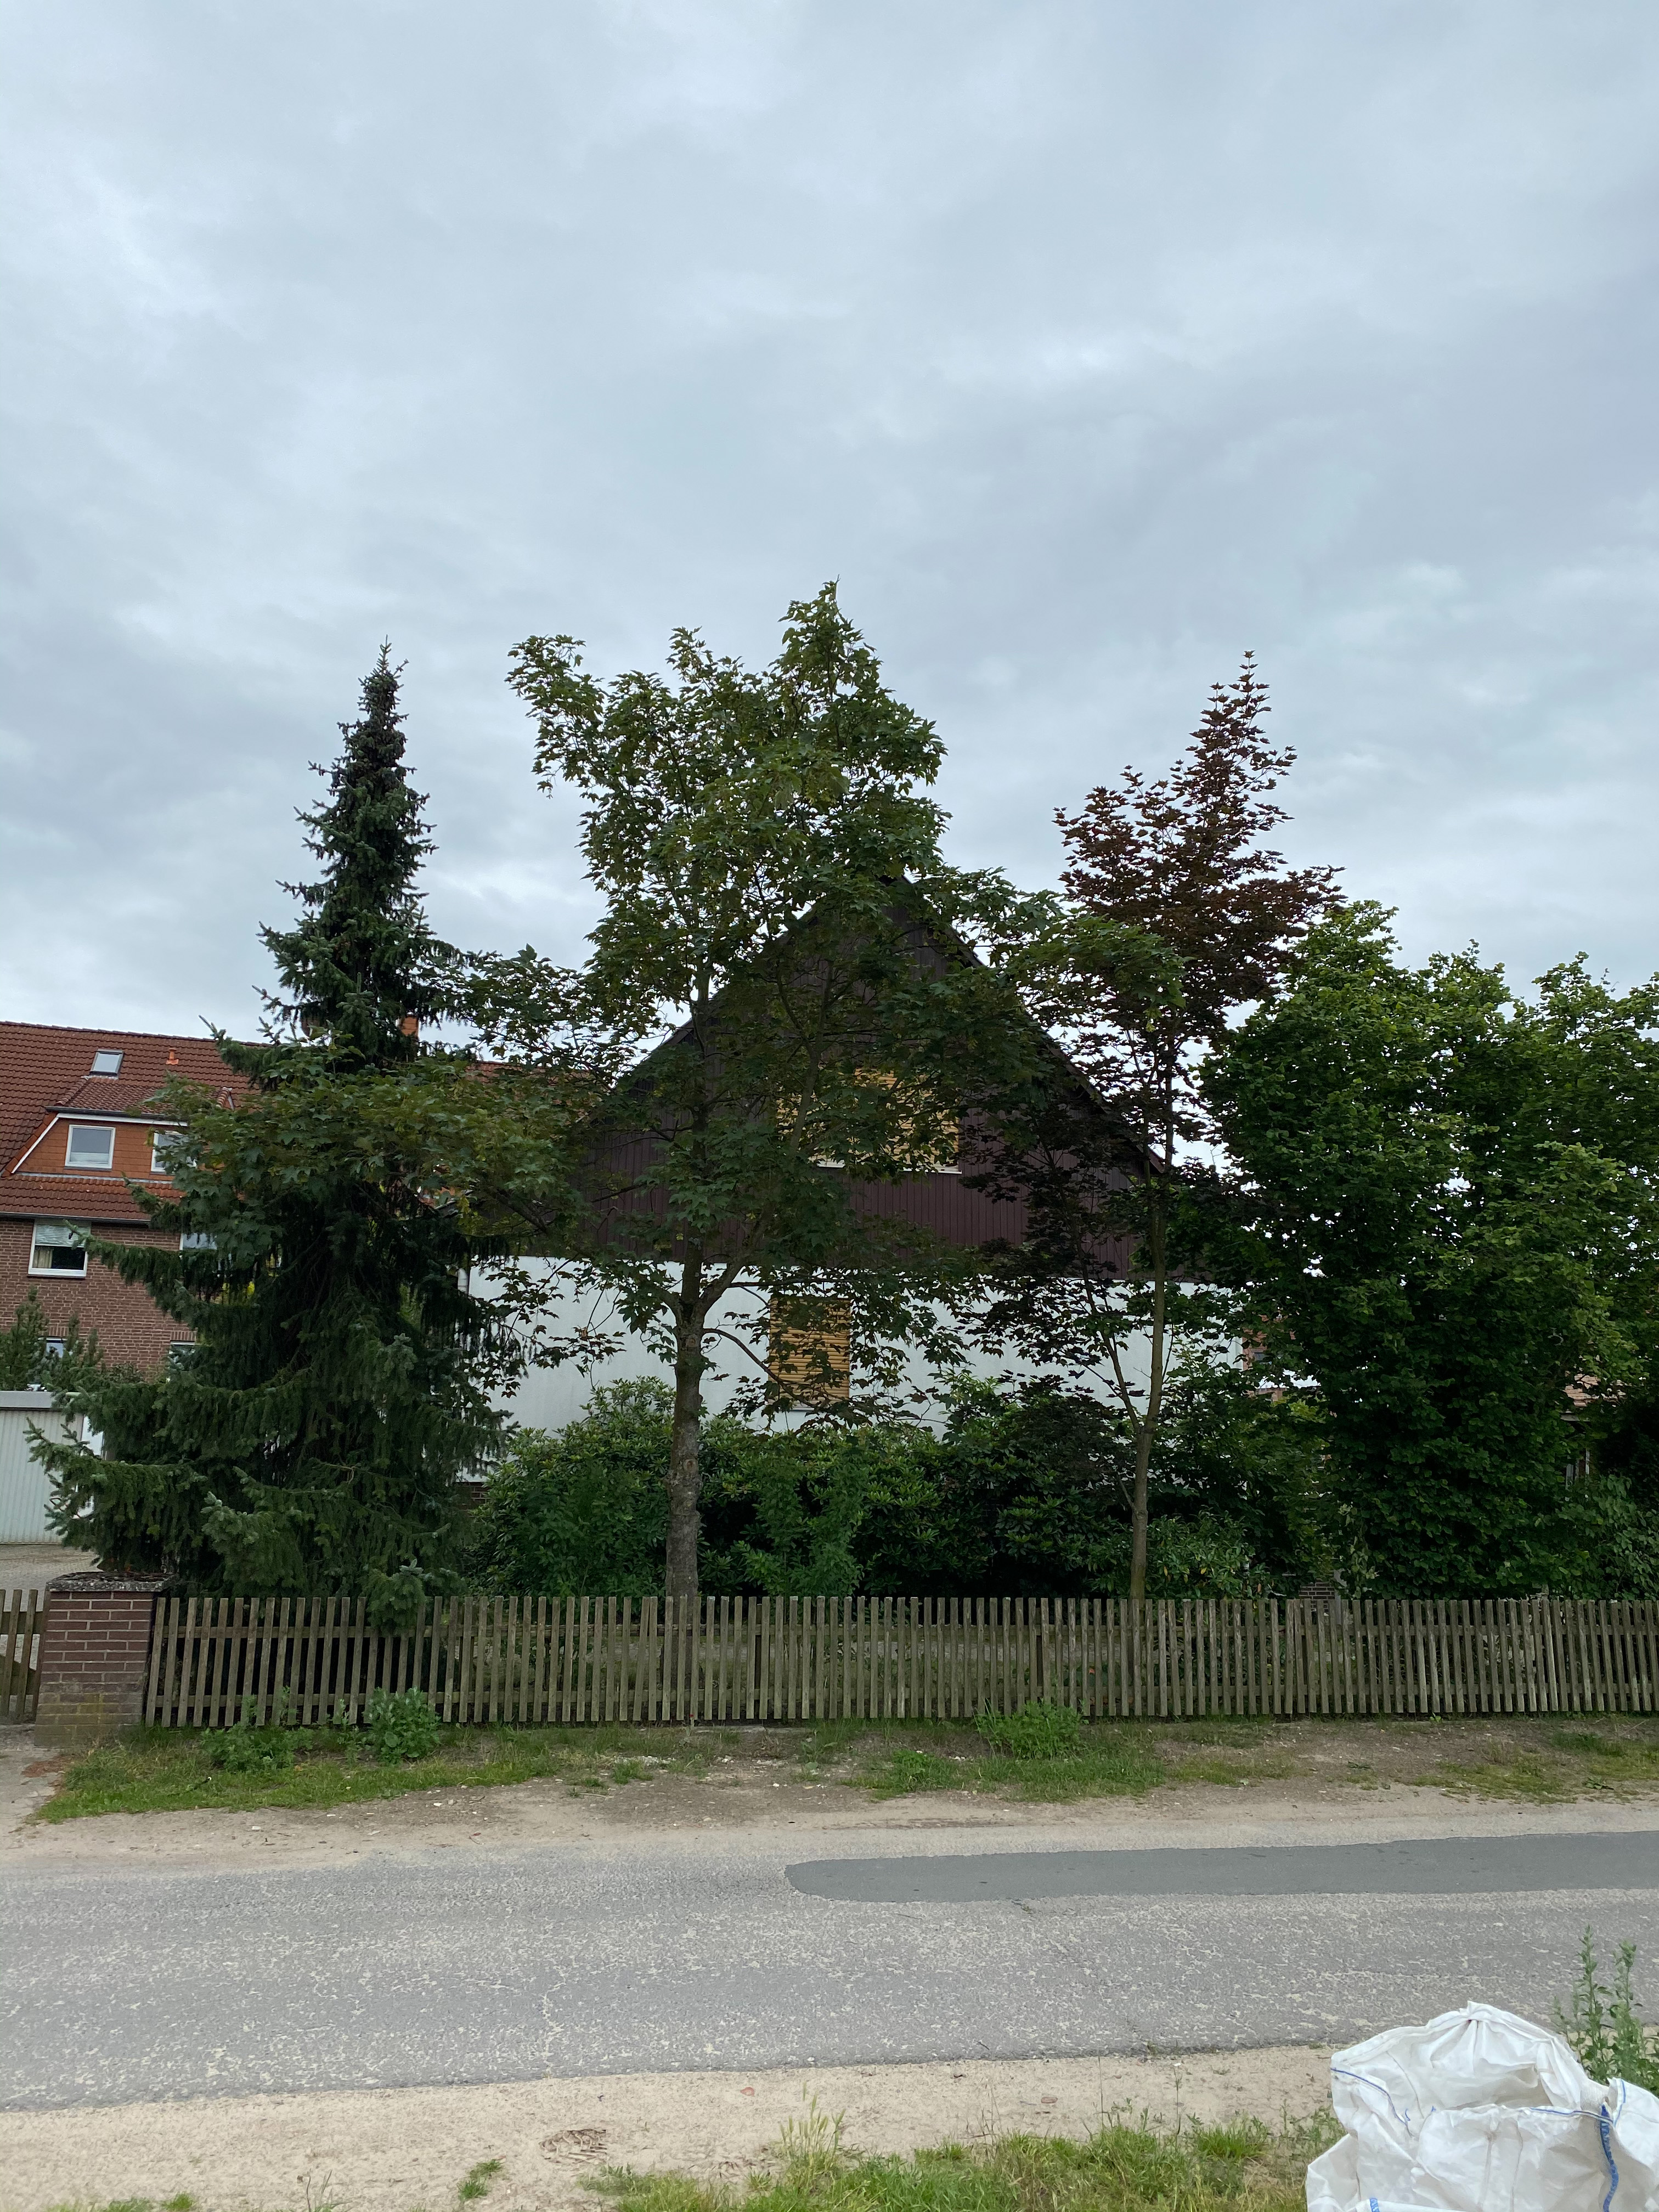tree: (406, 575, 955, 1601), (16, 634, 535, 1592), (967, 653, 1321, 1592), (1195, 900, 1659, 1599)
